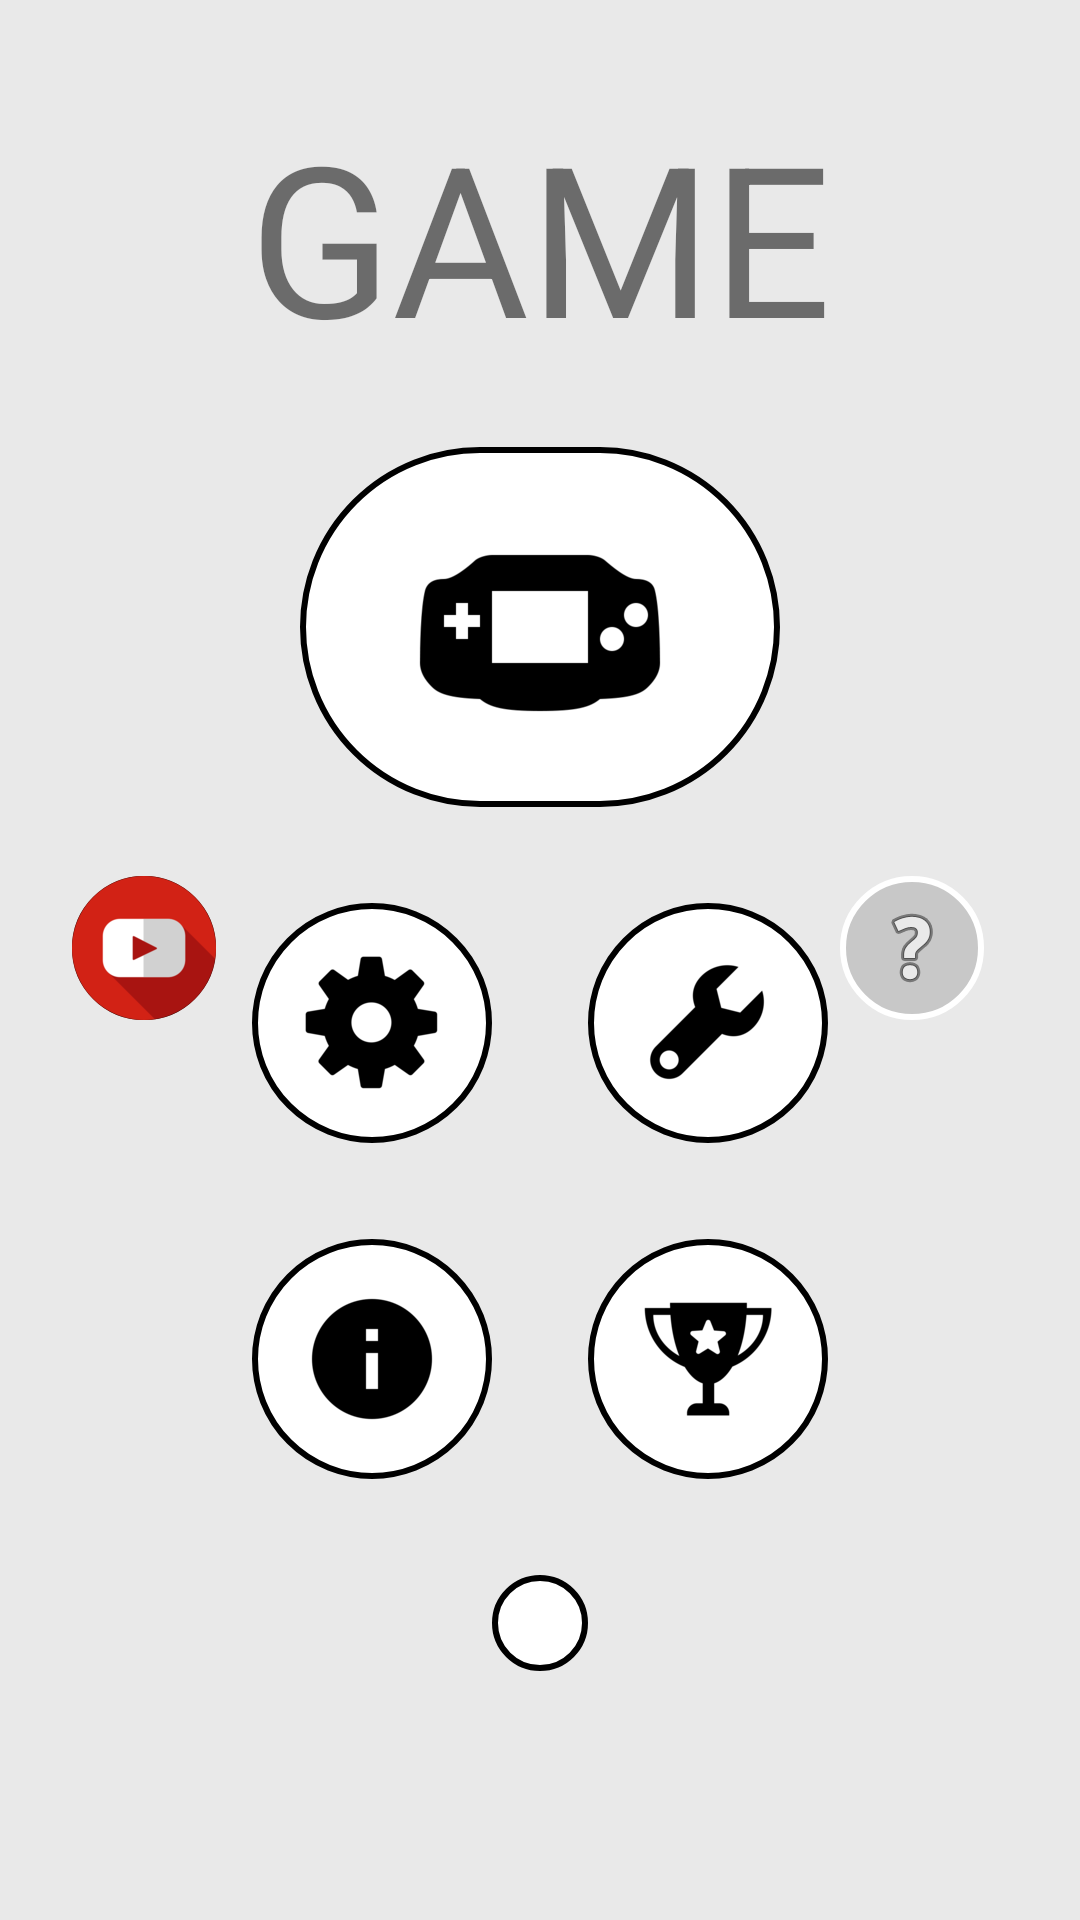

Icons on this 1080*1920 Android screen, each with the point to tap as point (x, y):
Settings: point (372, 1023)
Top scores: point (708, 1359)
